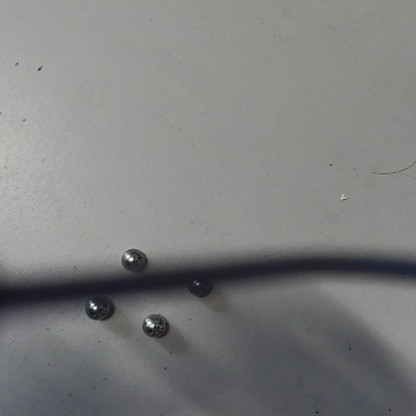ironball: (121, 248, 146, 271), (83, 297, 109, 319), (186, 277, 211, 298), (142, 314, 166, 335)
